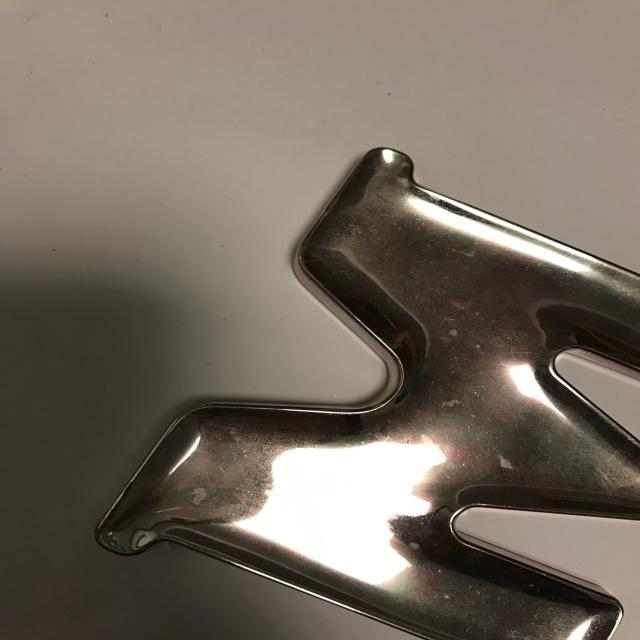metal: (102, 148, 640, 640)
